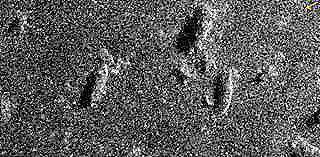ship: (89, 62, 109, 109), (215, 70, 234, 117)
